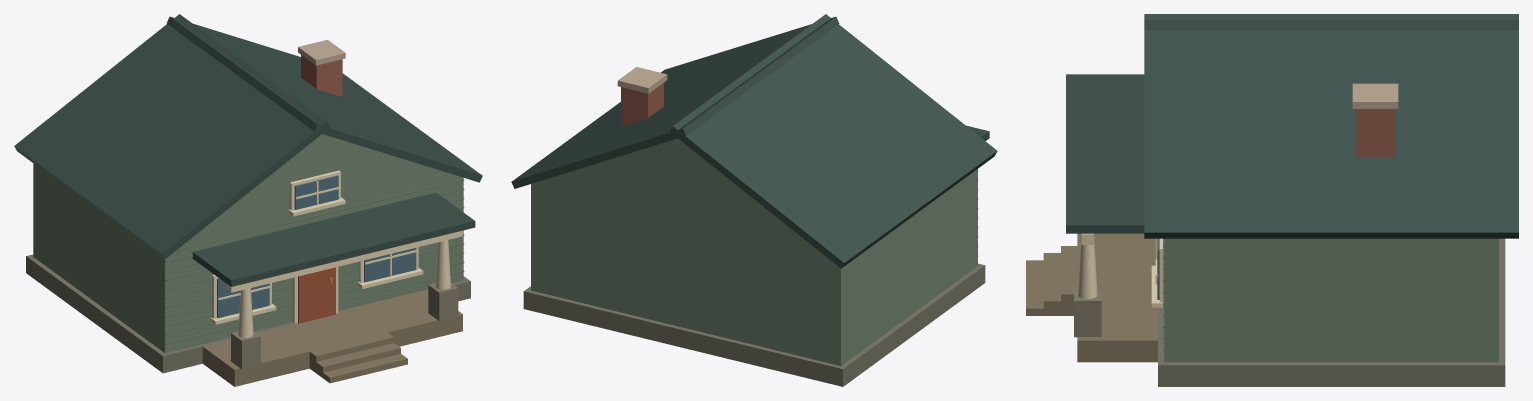
The model's file is craftsman_cottage.glb.
The picture shows the model from 3 angles, left to right: view 1: azimuth 30°, elevation 25°; view 2: azimuth 150°, elevation 25°; view 3: azimuth 270°, elevation 25°; orthographic projection. The views are drawn at different scales.
Visible parts, largest first — view 1: Sloping roof, Cottage walls, Porch canopy, Sloping roof.001, Covered porch deck, Gable walls, Stone plinth, Door, Porch beam, Chimney, Front step, Front step.001 (+14 smaller); view 2: Cottage walls, Sloping roof, Sloping roof.001, Gable walls, Stone plinth, Chimney, Chimney coping; view 3: Sloping roof.001, Cottage walls, Porch canopy, Stone plinth, Covered porch deck, Sloping roof, Chimney, Chimney coping, Pier.001, Front step.001, Front step, Front step.002 (+1 smaller).
Boxes of the visible parts, box(x1,y1,x2,y2) form: Sloping roof: box(14, 14, 330, 259); Cottage walls: box(33, 163, 463, 353); Porch canopy: box(192, 192, 475, 286); Sloping roof.001: box(166, 16, 482, 182); Covered porch deck: box(202, 289, 462, 386); Gable walls: box(187, 134, 456, 241); Stone plinth: box(26, 254, 470, 373); Door: box(298, 267, 335, 323); Porch beam: box(226, 230, 462, 292); Chimney: box(301, 55, 342, 96); Front step: box(309, 332, 394, 372); Front step.001: box(316, 343, 400, 377); Cottage walls: box(531, 169, 977, 365); Sloping roof: box(669, 14, 997, 268); Sloping roof.001: box(511, 16, 839, 188); Gable walls: box(538, 138, 817, 250); Stone plinth: box(523, 263, 985, 386); Chimney: box(621, 83, 663, 126); Chimney coping: box(617, 67, 667, 93); Sloping roof.001: box(1144, 14, 1518, 238); Cottage walls: box(1164, 238, 1498, 362); Porch canopy: box(1066, 74, 1144, 233); Stone plinth: box(1158, 238, 1505, 386); Covered porch deck: box(1077, 233, 1157, 362); Sloping roof: box(1144, 20, 1518, 29); Chimney: box(1355, 109, 1395, 157); Chimney coping: box(1352, 83, 1398, 108); Pier.001: box(1074, 289, 1101, 337); Front step.001: box(1043, 253, 1060, 315); Front step: box(1061, 246, 1078, 315); Front step.002: box(1026, 260, 1043, 315).
Size of the model in its own units: 9.14 by 5.89 by 9.58.
